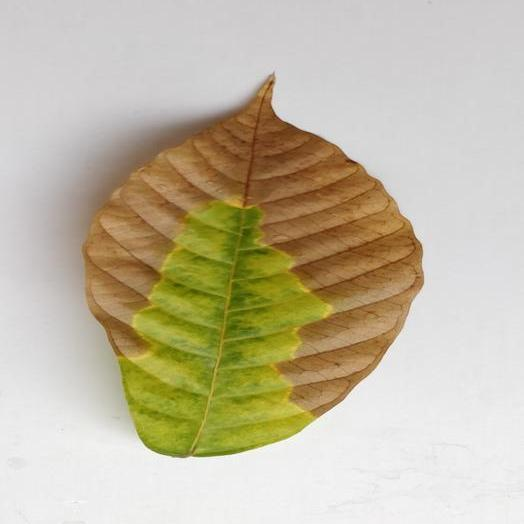Potassium: (85, 76, 421, 456)
